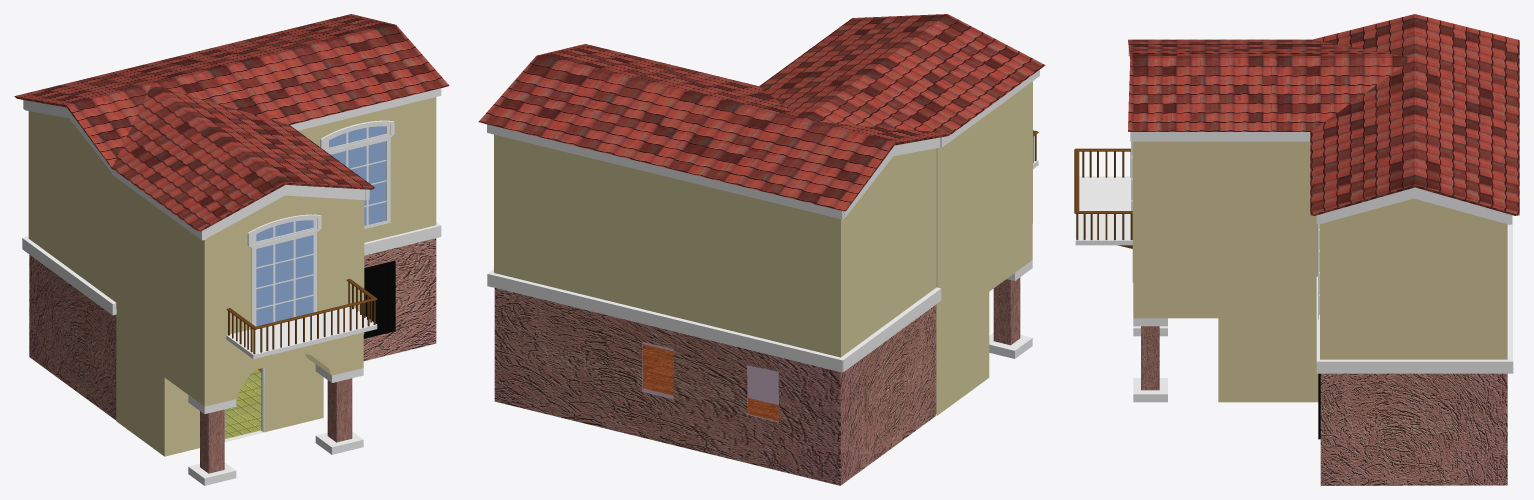
Rendered from casa.obj.
The picture shows the model from 3 angles, left to right: view 1: azimuth 30°, elevation 25°; view 2: azimuth 150°, elevation 25°; view 3: azimuth 270°, elevation 25°; orthographic projection. The views are drawn at different scales.
Parts seen in each view (by area): view 1: polySurface681; view 2: polySurface681; view 3: polySurface681.
Part boxes in pixels (<box>): polySurface681: <box>14,14,449,485</box>; polySurface681: <box>478,14,1045,485</box>; polySurface681: <box>1074,14,1519,485</box>.
Size of the model in its own units: 8.3 by 6.69 by 8.9.
